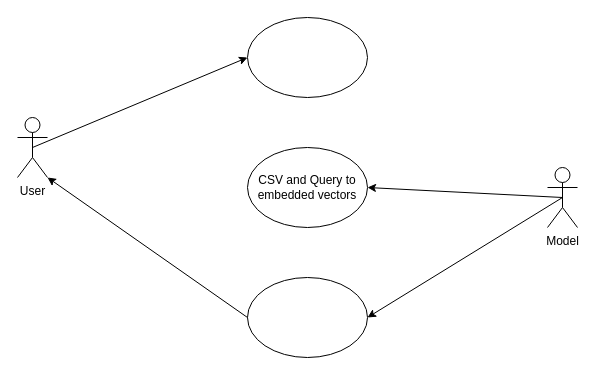
This 596x375 diagram has some shape labels left out. Each missing label, with the box of its shape:
CSV and Query loader: (246, 16, 368, 98)
Tokenized response to action: (246, 276, 368, 358)
